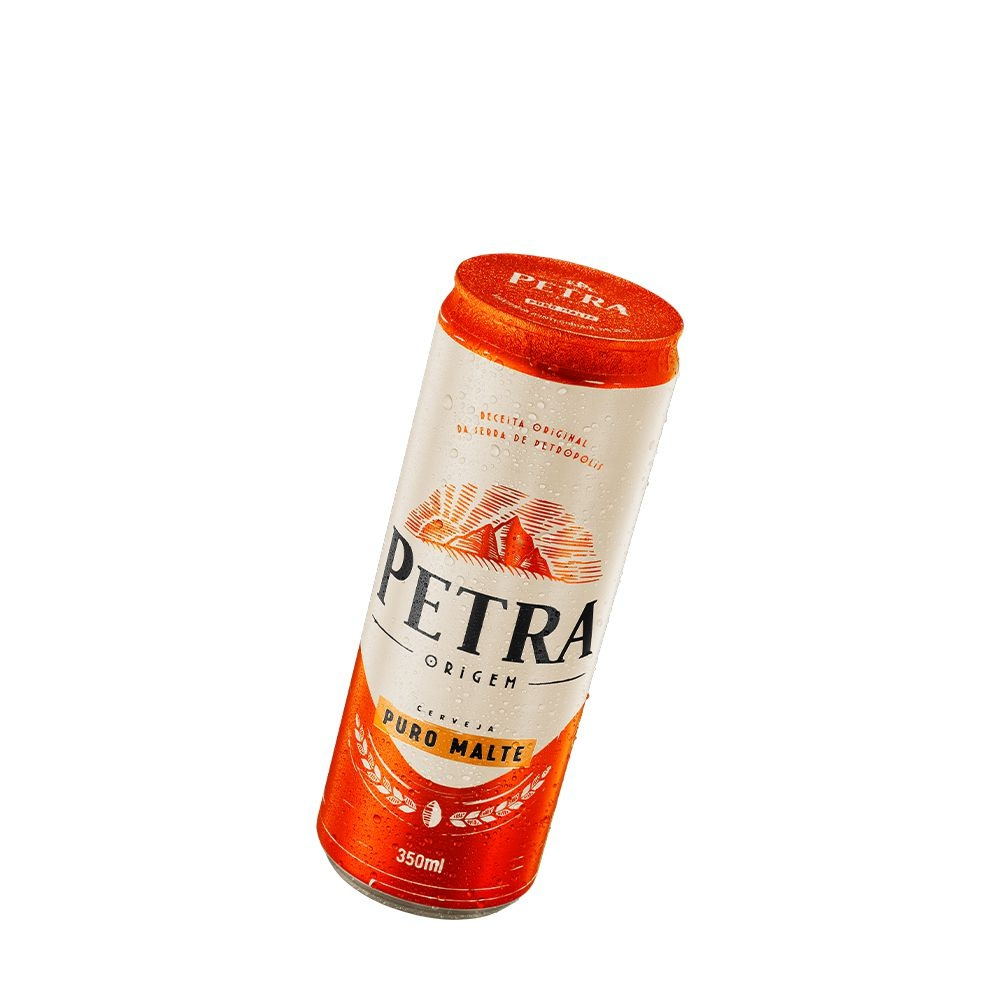petra: (231, 221, 707, 953)
